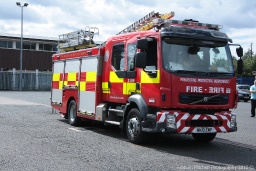truck: (49, 11, 239, 144)
